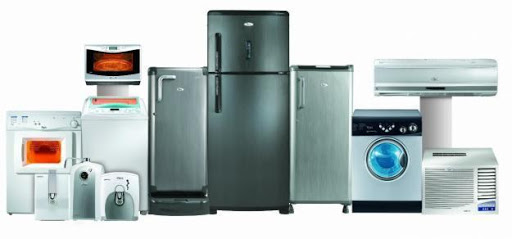AC: (376, 60, 498, 96)
Refrigerator: (209, 9, 288, 209), (292, 68, 351, 200), (150, 67, 208, 197)
